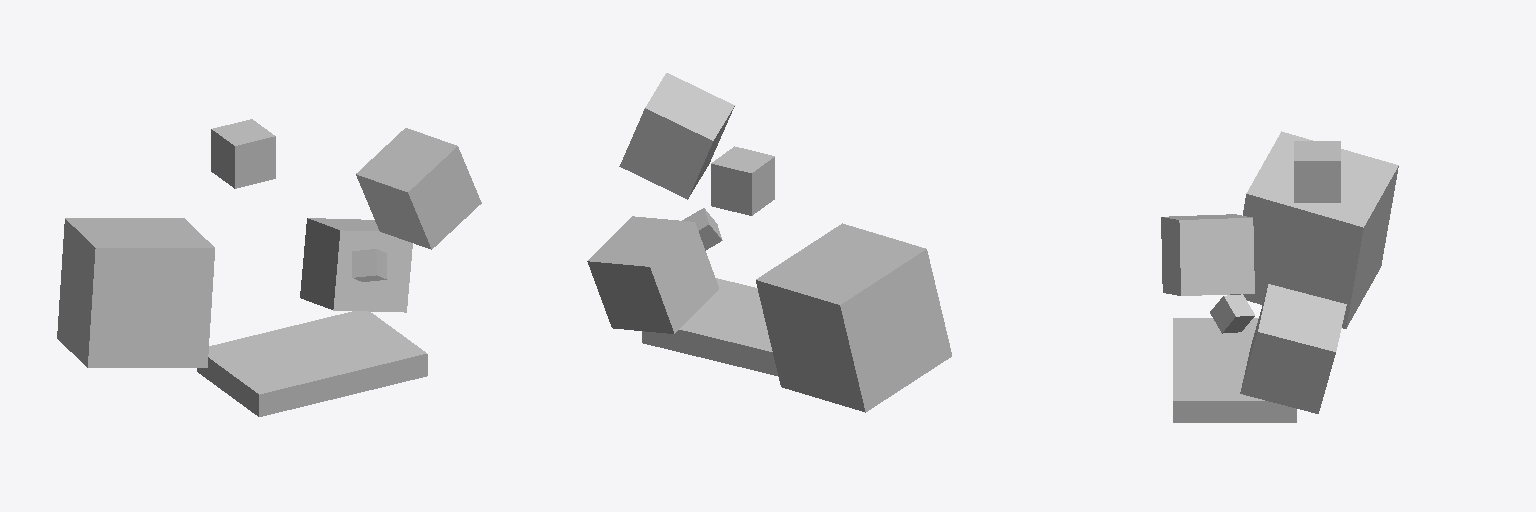
Rendered from light_bulb_back.obj.
3 views of the same model, side by side, from view 1: azimuth 30°, elevation 25°; view 2: azimuth 150°, elevation 25°; view 3: azimuth 270°, elevation 25° (orthographic).
Visible parts, largest first — view 1: Cube_Cube.002; view 2: Cube_Cube.002; view 3: Cube_Cube.002.
Part boxes in pixels (left/top/right/bottom): Cube_Cube.002: left=57, top=119, right=481, bottom=416; Cube_Cube.002: left=587, top=73, right=951, bottom=412; Cube_Cube.002: left=1161, top=131, right=1398, bottom=422.
Size of the model in its own units: 6.57 by 3.91 by 3.84.